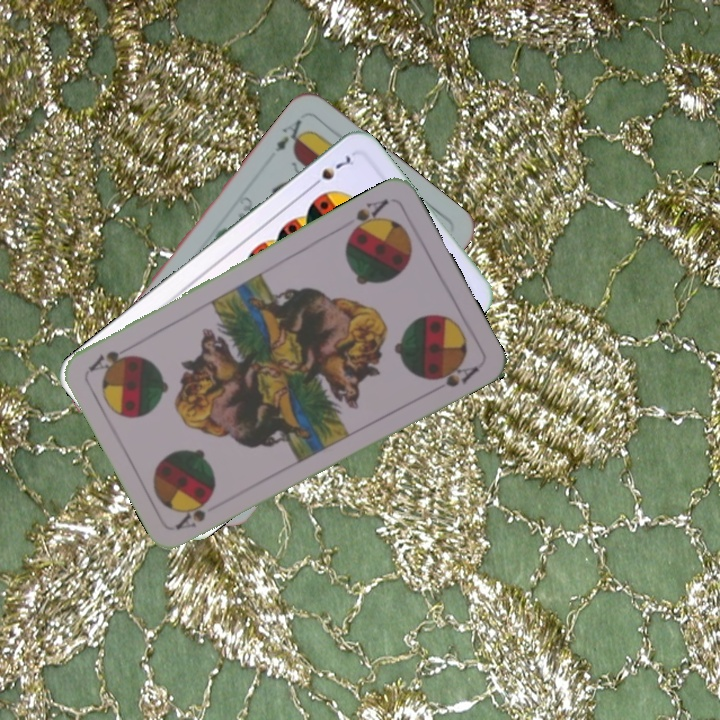EA: (270, 115, 305, 155)
S7: (306, 152, 357, 191)
SA: (344, 194, 392, 239), (171, 496, 213, 532)
